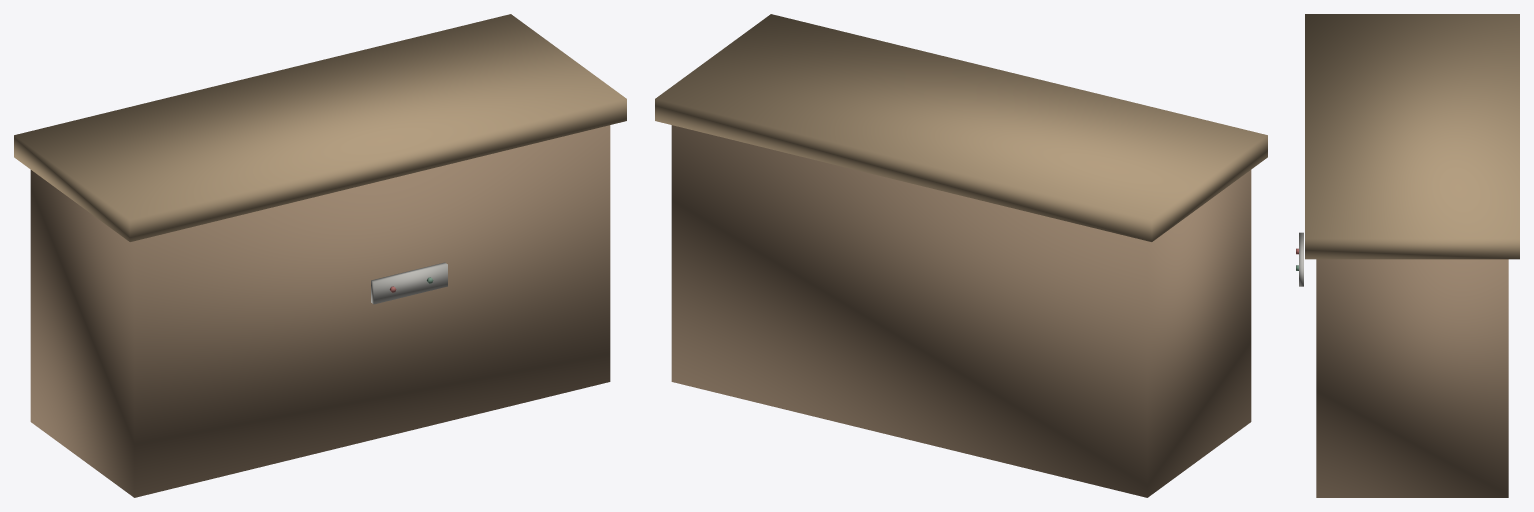
File: bank_teller_counter.glb
3 views of the same model, side by side, from view 1: azimuth 30°, elevation 25°; view 2: azimuth 150°, elevation 25°; view 3: azimuth 270°, elevation 25° (orthographic). The views are drawn at different scales.
Visible parts, largest first — view 1: world; view 2: world; view 3: world.
Part boxes in pixels (x1=…): world: x1=14, y1=14, x2=626, y2=497; world: x1=655, y1=14, x2=1267, y2=497; world: x1=1296, y1=14, x2=1519, y2=497.
Bounding box in the file's own units: 1.88 × 1.03 × 0.791.
